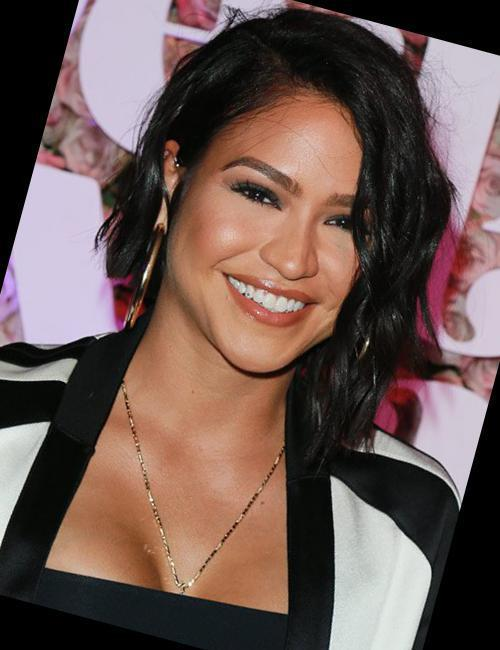Sober: (175, 112, 360, 375)
